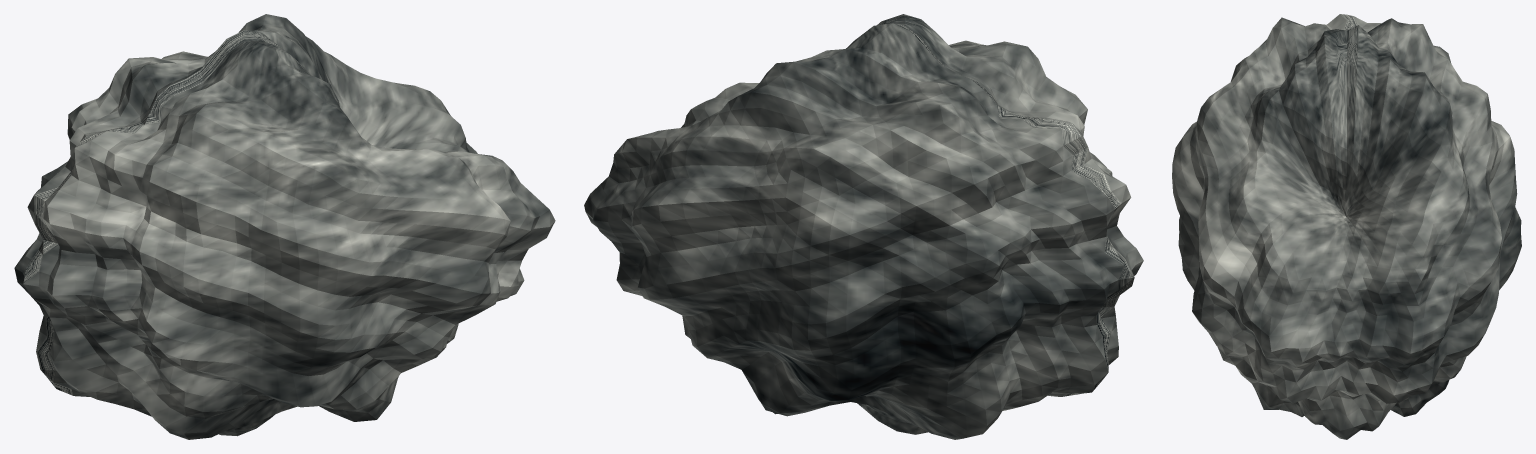
Rendered from bitten.glb.
3 renders of one model, left to right at view 1: azimuth 30°, elevation 25°; view 2: azimuth 150°, elevation 25°; view 3: azimuth 270°, elevation 25°, orthographic. The views are drawn at different scales.
Parts seen in each view (by area): view 1: rock; view 2: rock; view 3: rock.
Boxes of the visible parts, x1,y1,x2,y2 form: rock: (14, 14, 555, 439); rock: (584, 14, 1143, 439); rock: (1172, 14, 1521, 439).
Size of the model in its own units: 23.32 by 17.62 by 15.4.
1 material, 1 textured.
